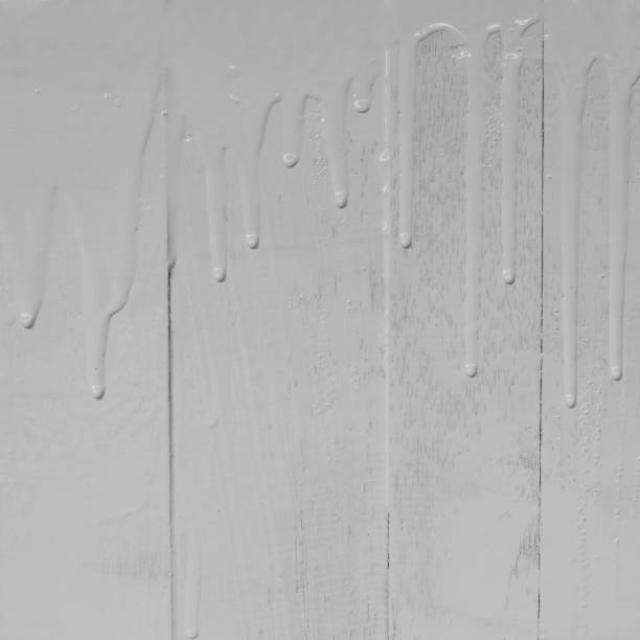paint drips: (0, 50, 375, 407), (377, 10, 640, 418)
